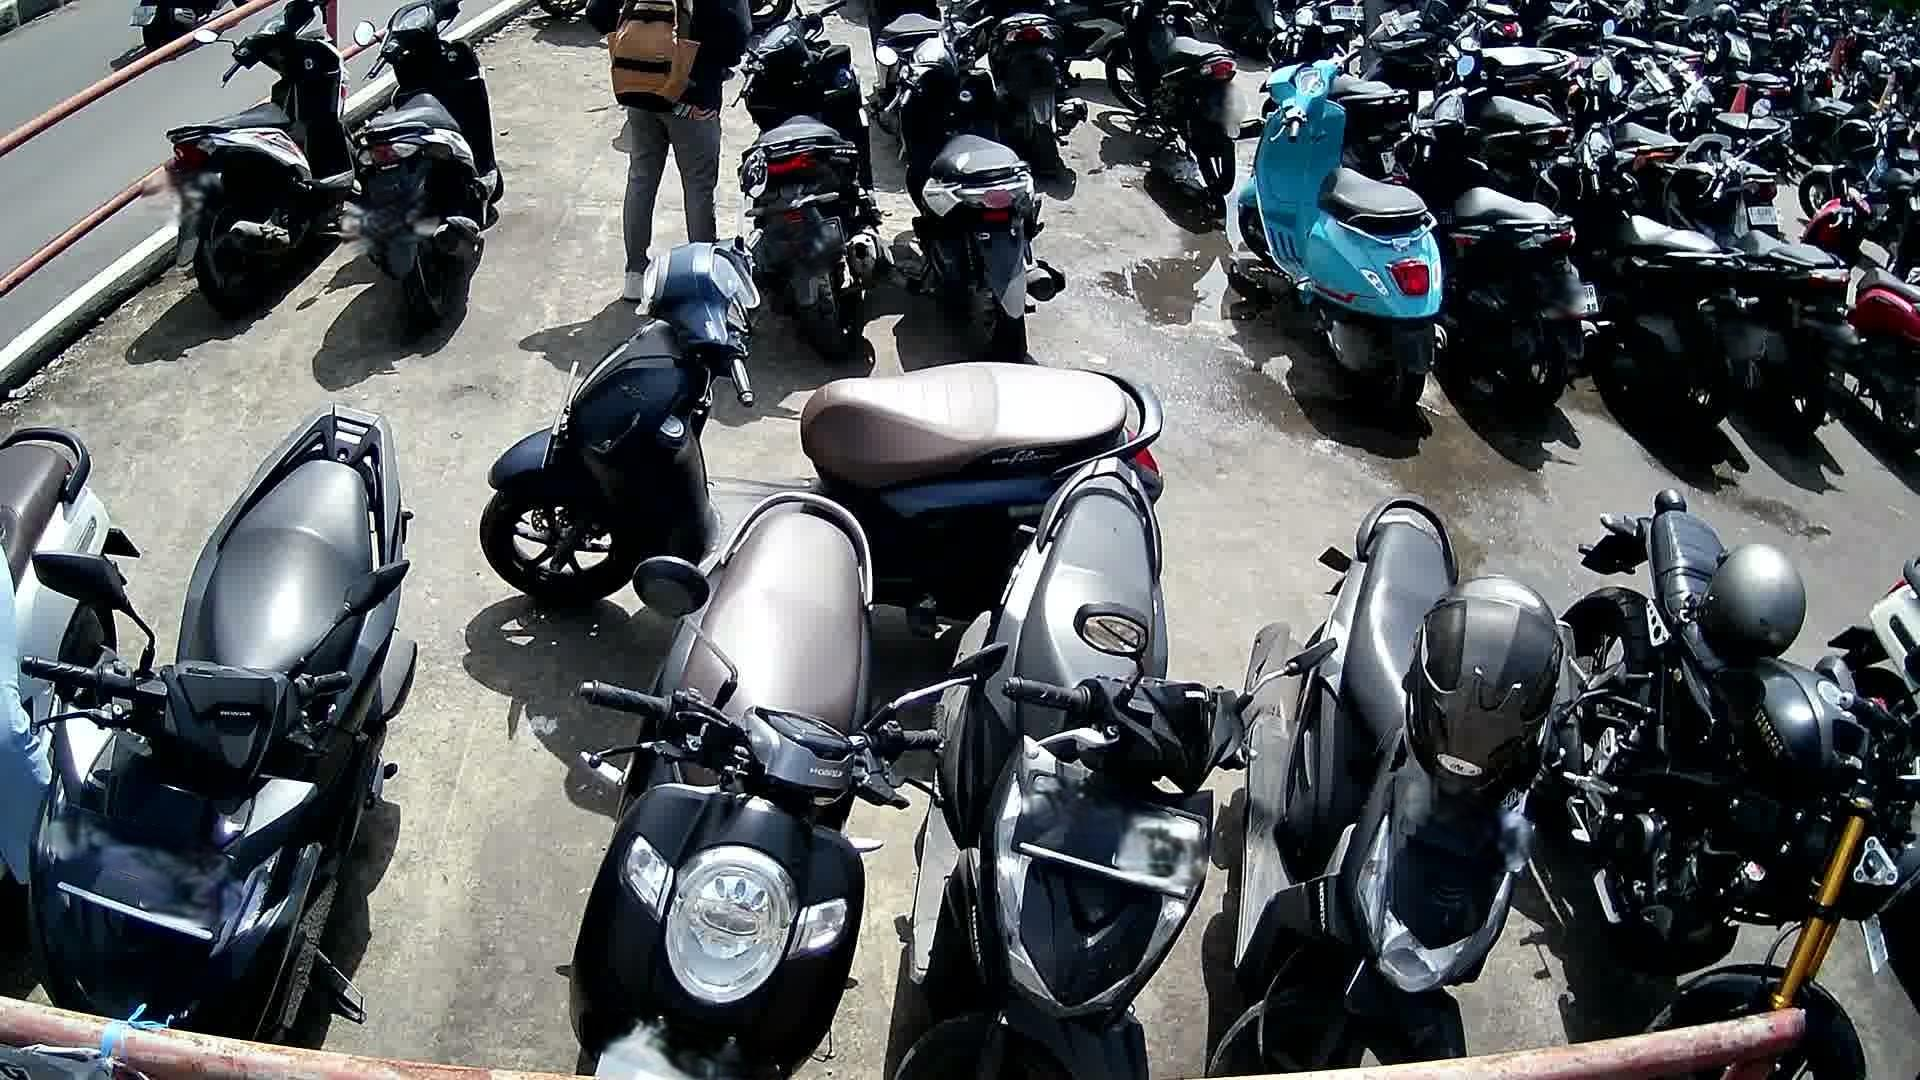motorcycle: (481, 206, 1166, 609), (20, 406, 418, 1044), (897, 456, 1279, 1080), (564, 491, 948, 1080), (1568, 487, 1920, 1080), (1208, 497, 1564, 1075), (1234, 44, 1449, 419), (1389, 49, 1604, 421), (0, 423, 137, 993), (1527, 111, 1759, 433), (876, 3, 1067, 360), (1650, 135, 1869, 440), (162, 0, 363, 319), (732, 0, 898, 356), (353, 0, 506, 322), (1797, 175, 1920, 452)
